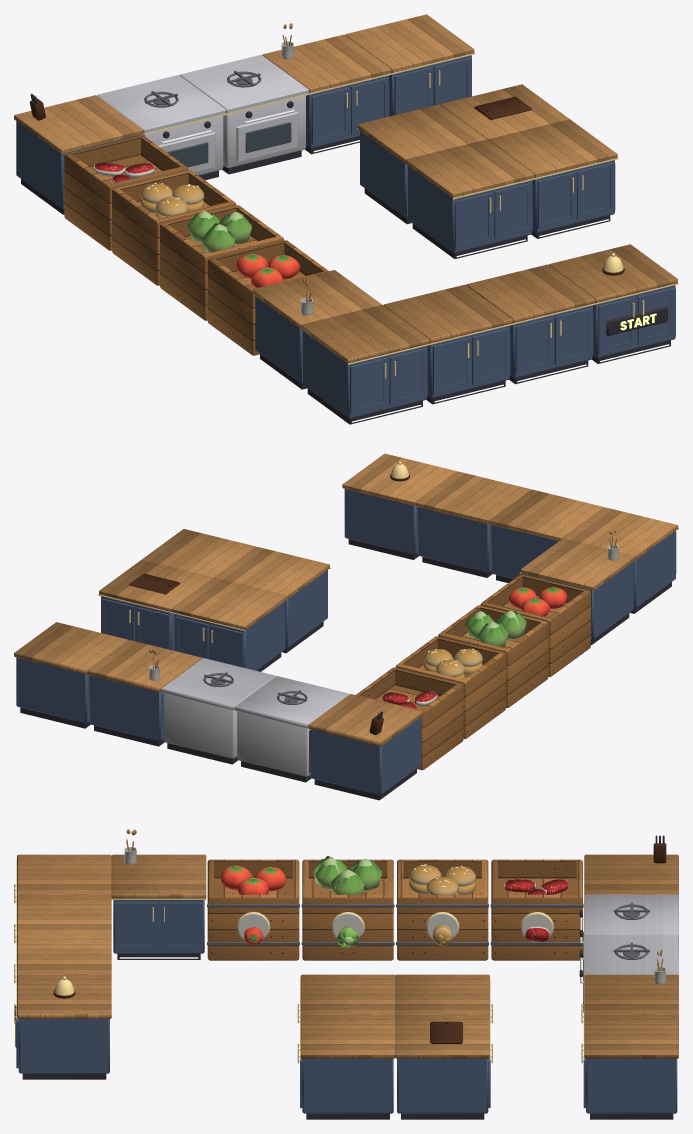
File: kr_layD3_st.glb
3 views of the same model, one above another, from view 1: azimuth 30°, elevation 25°; view 2: azimuth 150°, elevation 25°; view 3: azimuth 270°, elevation 25° (orthographic). The views are drawn at different scales.
Parts seen in each view (by area): view 1: vc_m0_r4, kr_layD3_st_butcher, kr_layD3_st_planks, kr_layD3_st_steel, vc_m8_r2, vc_m0_r2, kr_layD3_st_darkwood, kr_layD3_st_warmglow, vc_m8_r4; view 2: vc_m0_r4, kr_layD3_st_butcher, kr_layD3_st_planks, kr_layD3_st_steel, vc_m0_r2, kr_layD3_st_darkwood, vc_m8_r2, vc_m8_r4; view 3: kr_layD3_st_butcher, vc_m0_r4, kr_layD3_st_planks, kr_layD3_st_steel, vc_m8_r4, vc_m8_r2, vc_m0_r2, kr_layD3_st_darkwood, kr_layD3_st_f_marble.
Boxes of the visible parts, <box> form: vc_m0_r4: <box>16,41,675,424</box>; kr_layD3_st_butcher: <box>14,14,677,363</box>; kr_layD3_st_planks: <box>64,135,328,355</box>; kr_layD3_st_steel: <box>97,54,308,175</box>; vc_m8_r2: <box>143,53,678,378</box>; vc_m0_r2: <box>236,254,299,287</box>; kr_layD3_st_darkwood: <box>29,96,624,275</box>; kr_layD3_st_warmglow: <box>313,140,669,422</box>; vc_m8_r4: <box>144,71,261,107</box>; vc_m0_r4: <box>16,489,676,800</box>; kr_layD3_st_butcher: <box>14,453,678,746</box>; kr_layD3_st_planks: <box>356,574,590,770</box>; kr_layD3_st_steel: <box>161,658,349,776</box>; vc_m0_r2: <box>508,587,567,616</box>; kr_layD3_st_darkwood: <box>129,474,409,735</box>; vc_m8_r2: <box>98,461,678,729</box>; vc_m8_r4: <box>203,672,307,704</box>; kr_layD3_st_butcher: <box>17,829,678,1058</box>; vc_m0_r4: <box>15,835,677,1119</box>; kr_layD3_st_planks: <box>207,859,582,960</box>; kr_layD3_st_steel: <box>584,894,678,975</box>; vc_m8_r4: <box>207,902,649,959</box>; vc_m8_r2: <box>14,858,584,1063</box>; vc_m0_r2: <box>221,865,286,945</box>; kr_layD3_st_darkwood: <box>53,843,666,1043</box>; kr_layD3_st_f_marble: <box>505,879,567,941</box>.
Bounding box in the file's own units: 6 × 1.4 × 8.44.
12 materials, 5 textured.
